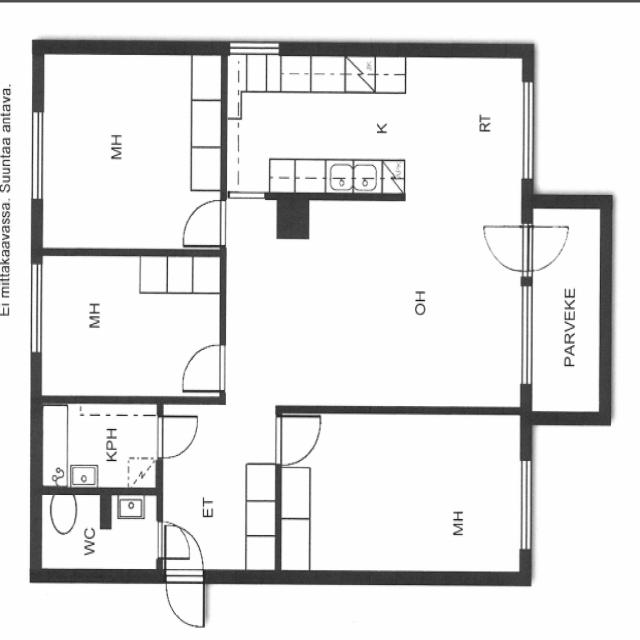door: (160, 524, 210, 631), (478, 216, 551, 276), (274, 408, 326, 468), (176, 338, 228, 396), (518, 216, 570, 270), (178, 193, 227, 249), (154, 411, 201, 461), (152, 520, 194, 562)
window: (32, 488, 162, 578), (516, 71, 544, 191), (514, 452, 538, 560), (23, 260, 48, 360), (515, 280, 537, 393), (25, 108, 49, 206), (226, 36, 284, 56)
zone: (224, 44, 524, 407), (276, 410, 532, 579), (34, 47, 222, 252), (34, 248, 226, 402), (224, 52, 412, 196), (160, 401, 280, 575), (530, 207, 605, 420), (38, 400, 162, 488), (158, 524, 212, 630)
